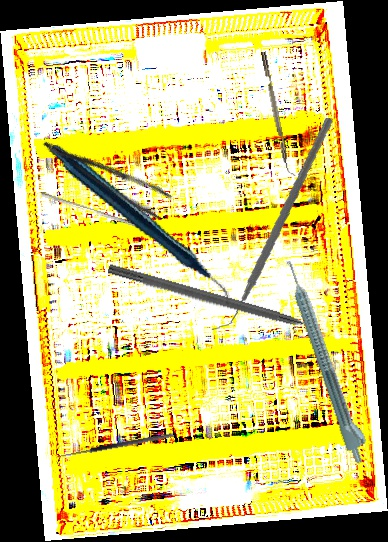Chopper: (189, 117, 354, 331), (260, 50, 297, 178)
Dressing Forceps: (39, 120, 175, 223)
Handpiece: (47, 112, 232, 339), (281, 254, 376, 467)
Hook Surgical: (106, 262, 331, 340), (55, 431, 175, 466)
Pusher: (39, 191, 166, 236)
